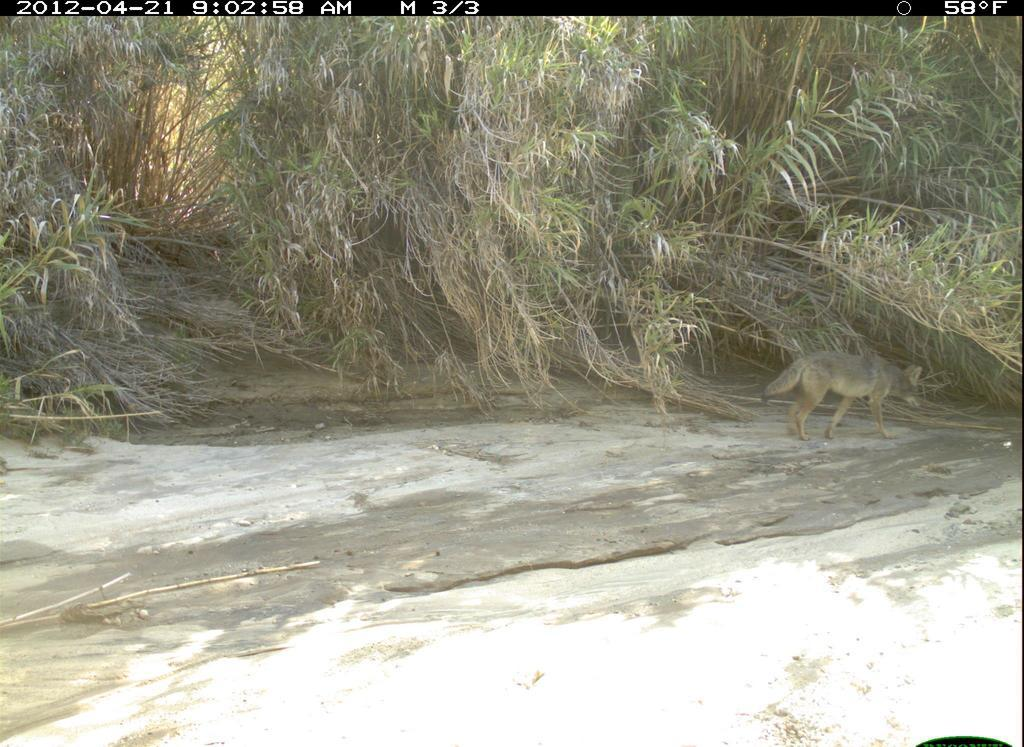coyote: (758, 344, 931, 454)
